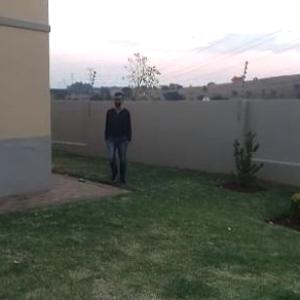follow: (102, 90, 136, 194)
